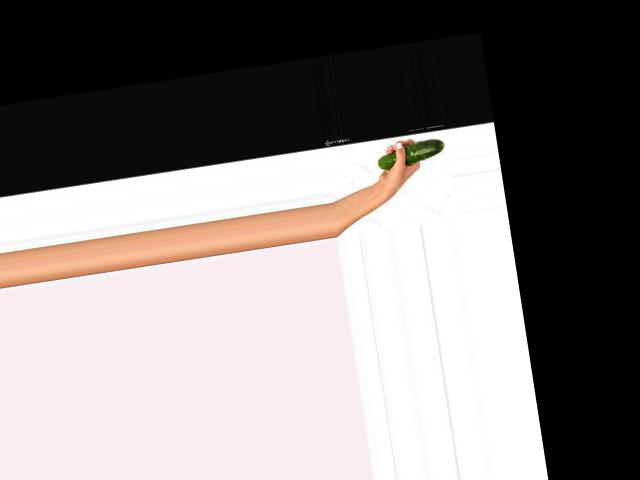cucumber: (376, 136, 447, 170)
